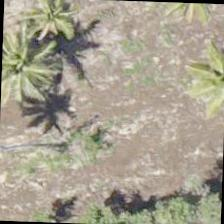Kelapa_Sawit: (6, 100, 99, 194), (0, 41, 85, 135), (9, 0, 102, 62)
